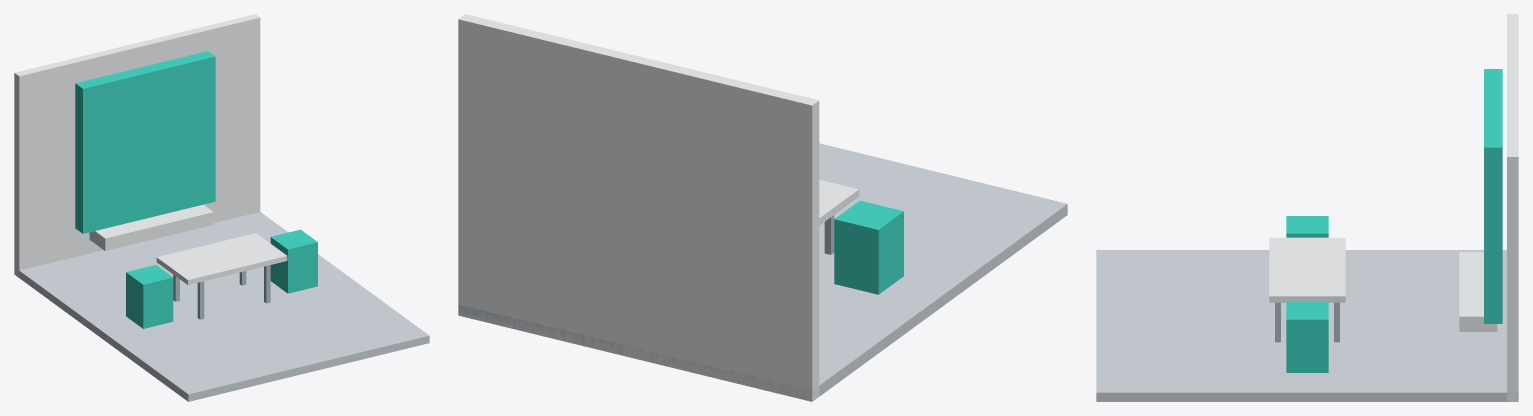
3 views of the same model, side by side, from view 1: azimuth 30°, elevation 25°; view 2: azimuth 150°, elevation 25°; view 3: azimuth 270°, elevation 25° (orthographic). The views are drawn at different scales.
Parts seen in each view (by area): view 1: Exhibition Booth Concept; view 2: Exhibition Booth Concept; view 3: Exhibition Booth Concept.
Part boxes in pixels (left/top/right/bottom): Exhibition Booth Concept: left=14, top=14, right=429, bottom=401; Exhibition Booth Concept: left=458, top=14, right=1067, bottom=401; Exhibition Booth Concept: left=1096, top=14, right=1518, bottom=401.
Bounding box in the file's own units: 4 × 3.2 × 5.
